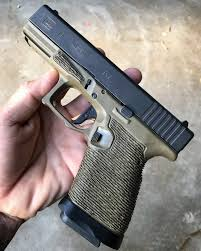gun: (20, 2, 199, 250)
